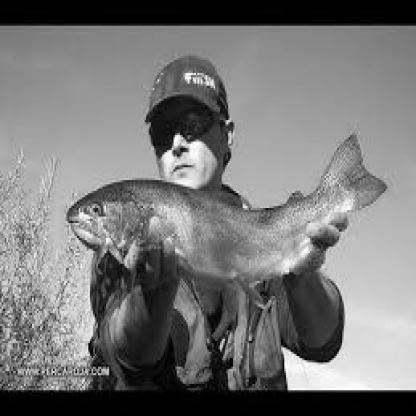fish: (63, 130, 387, 288)
